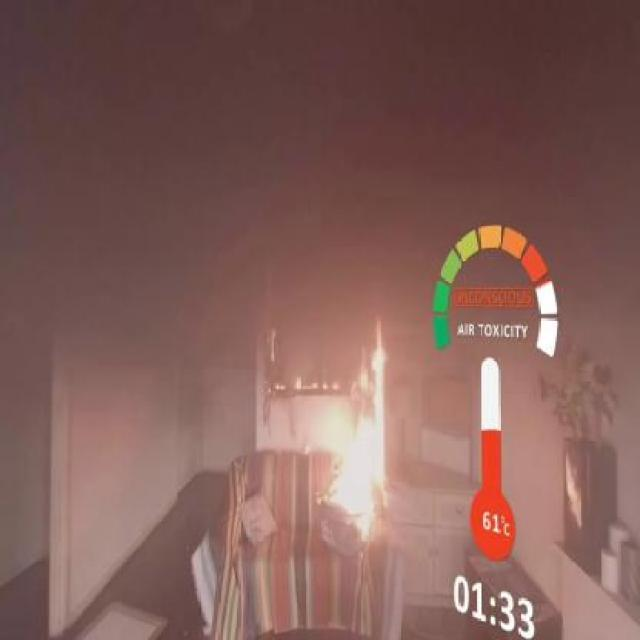fire: (318, 300, 392, 552)
